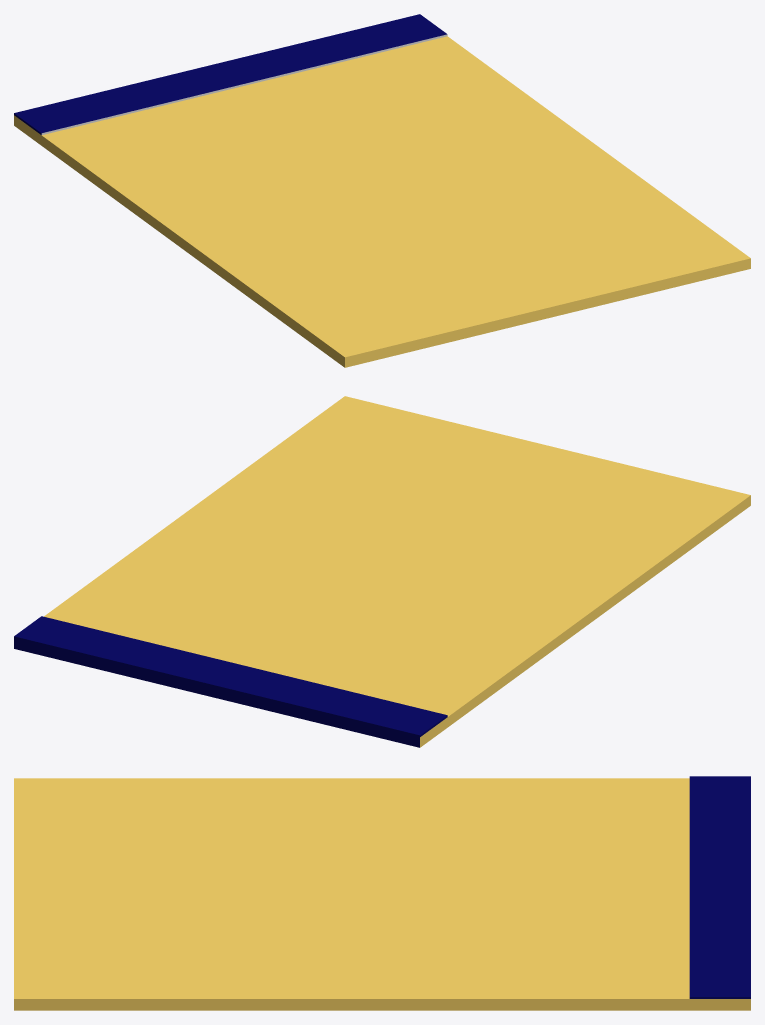
File: dwdad.fbx
3 views of the same model, one above another, from view 1: azimuth 30°, elevation 25°; view 2: azimuth 150°, elevation 25°; view 3: azimuth 270°, elevation 25° (orthographic). The views are drawn at different scales.
Parts seen in each view (by area): view 1: Model; view 2: Model; view 3: Model.
Boxes of the visible parts, x1,y1,x2,y2 form: Model: (14,14,750,367); Model: (14,396,750,747); Model: (14,776,750,1010).
Bounding box in the file's own units: 8.5 × 0.25 × 12.
